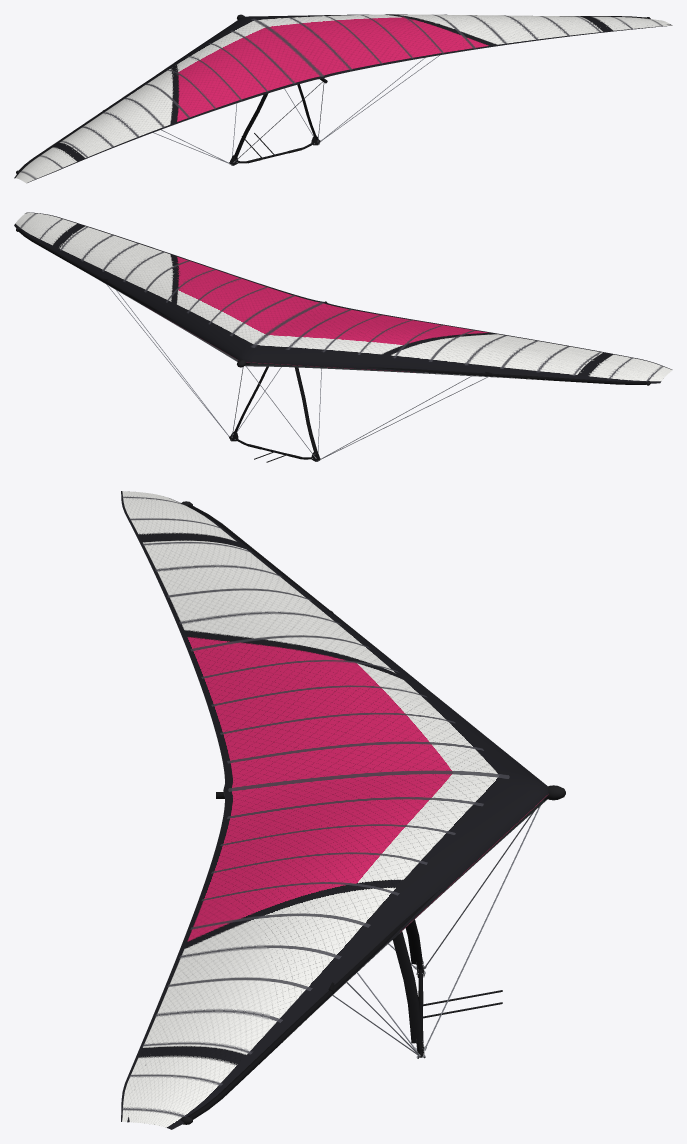
File: glider_ww_fusion.glb
3 views of the same model, one above another, from view 1: azimuth 30°, elevation 25°; view 2: azimuth 150°, elevation 25°; view 3: azimuth 270°, elevation 25° (orthographic). The views are drawn at different scales.
Visible parts, largest first — view 1: Sail, ControlFrame, Frame; view 2: Sail, ControlFrame, Frame; view 3: Sail, ControlFrame, Frame.
Boxes of the visible parts, x1,y1,x2,y2 form: Sail: (14,14,672,183); ControlFrame: (153,55,439,165); Frame: (16,14,650,173); Sail: (14,212,672,383); ControlFrame: (106,284,487,462); Frame: (16,227,650,385); Sail: (121,491,548,1129); ControlFrame: (332,805,540,1058); Frame: (181,501,565,1124).
Bounding box in the file's own units: 10.39 × 1.93 × 3.1.
Materials: 8 (1 with a texture image).
